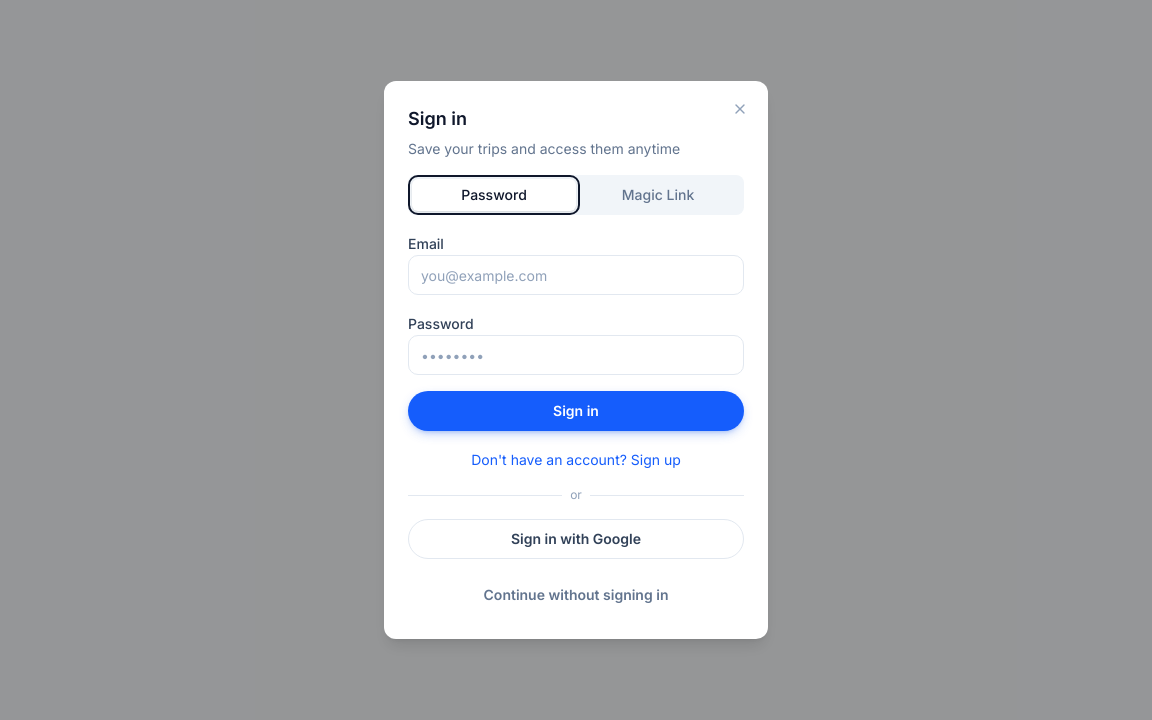
Scenario: AuthModal › switches back from sign-up to sign-in
This screenshot has width=1152, height=720.
What coordinates should you click on to do the following:
click the button "Don't have an account? Sign up"
I would click on:
 (576, 460)
Its box is 471,450 -> 681,470.
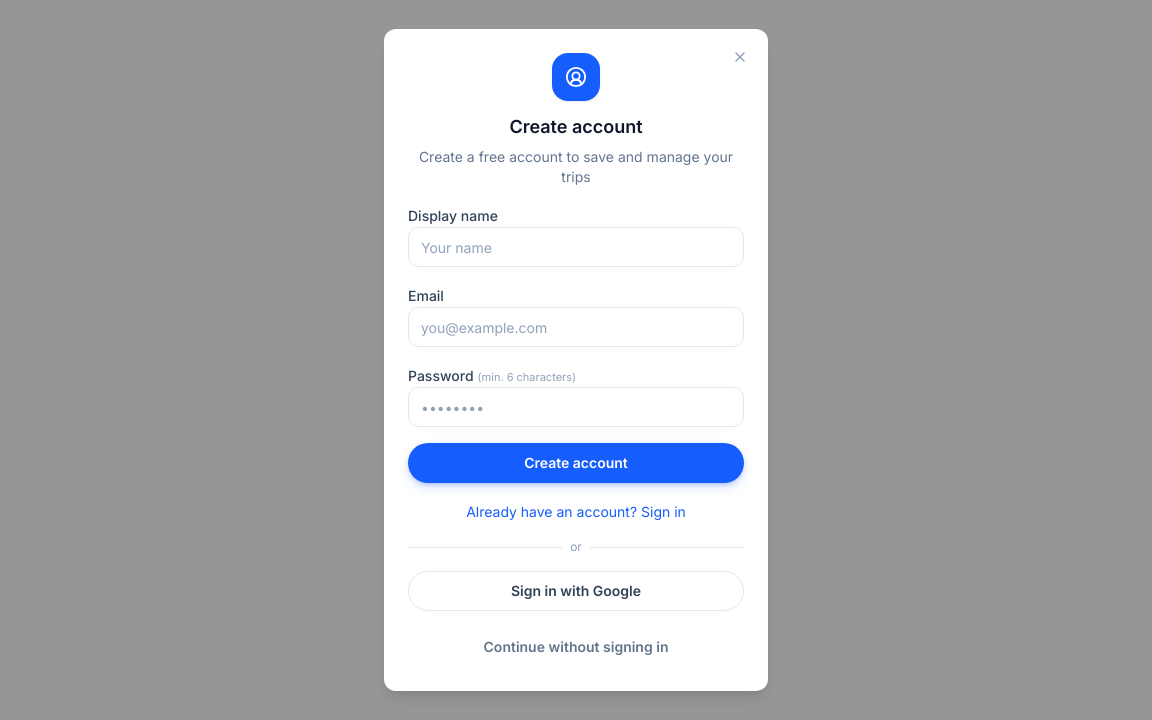
What coordinates should you click on to do the following:
click the button "Already have an account? Sign in"
I would click on:
 (576, 512)
Its box is 466,502 -> 686,522.
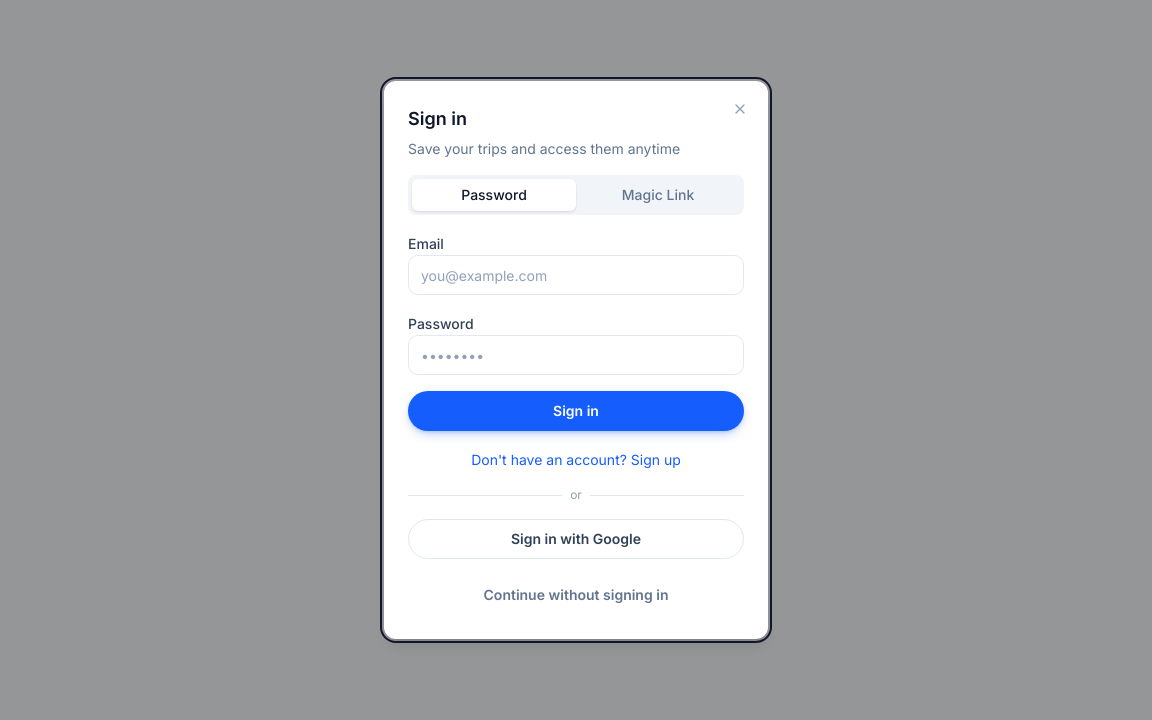
Expected: the heading "Sign in" is shown, 408,108 -> 467,129
